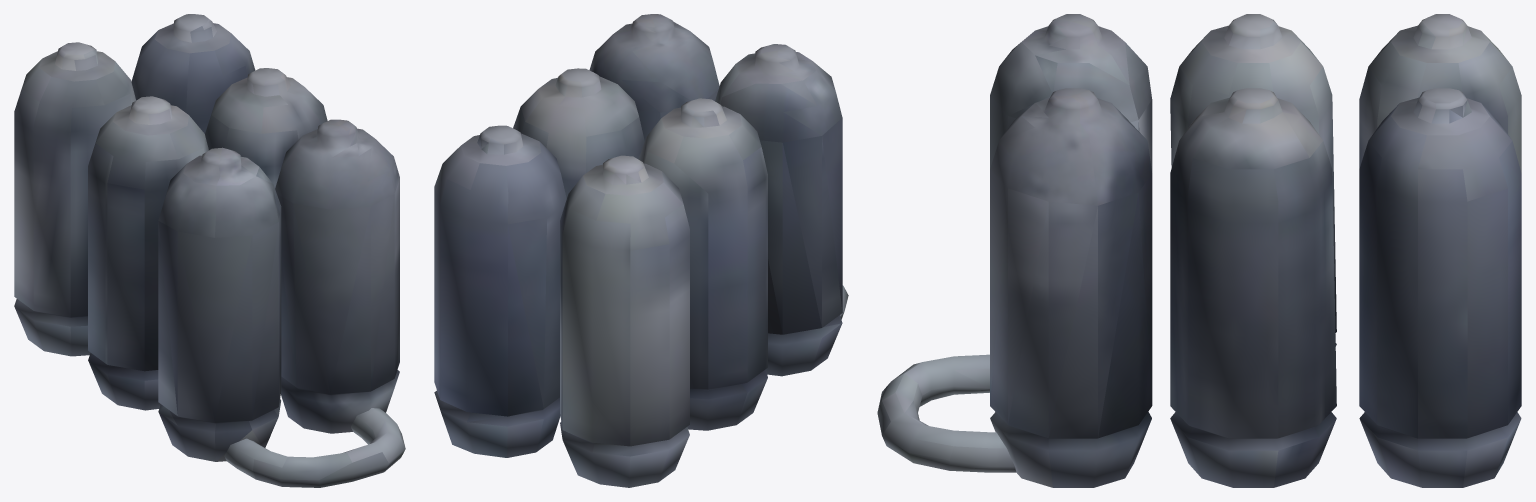
File: 整備庫_15_氣瓶組.glb
The picture shows the model from 3 angles, left to right: view 1: azimuth 30°, elevation 25°; view 2: azimuth 150°, elevation 25°; view 3: azimuth 270°, elevation 25°; orthographic projection. The views are drawn at different scales.
Parts seen in each view (by area): view 1: 15_氣瓶組; view 2: 15_氣瓶組; view 3: 15_氣瓶組.
Boxes of the visible parts, x1,y1,x2,y2 form: 15_氣瓶組: (14, 14, 405, 487); 15_氣瓶組: (434, 14, 848, 487); 15_氣瓶組: (877, 14, 1521, 487).
Size of the model in its own units: 0.0356 by 0.0439 by 0.0698.
1 material, 1 textured.
